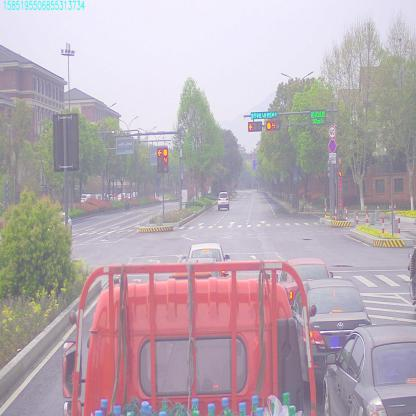traffic-light: (250, 111, 278, 118), (266, 121, 279, 132), (248, 121, 263, 130)
